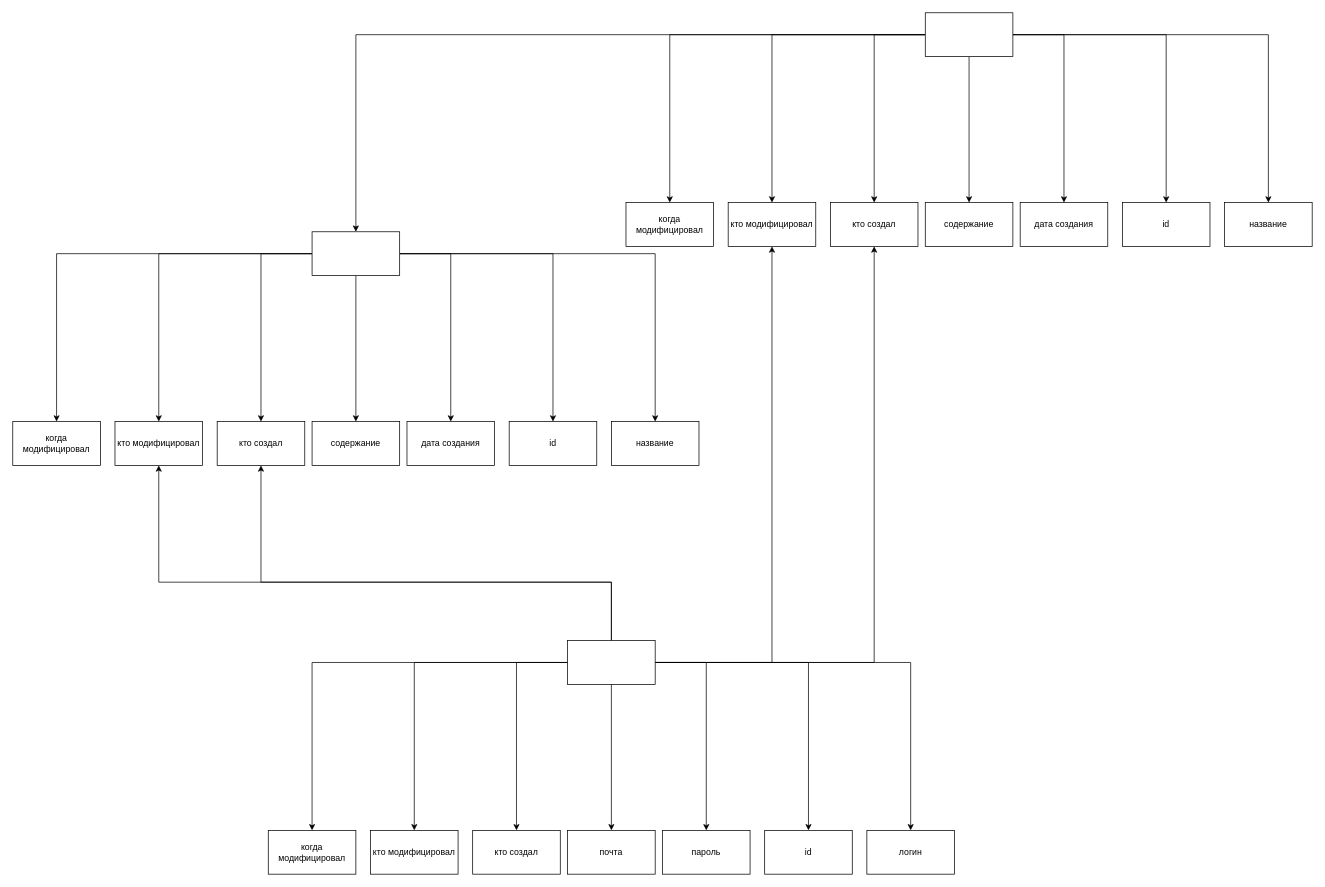
Image size: 1325x887. Some labels were removed from this diagram. Here are the shapes that lost their labels. From the top down, the centre of each, then its label:
At (969,34): "проект".
At (355,253): "задача".
At (611,662): "пользователь".
